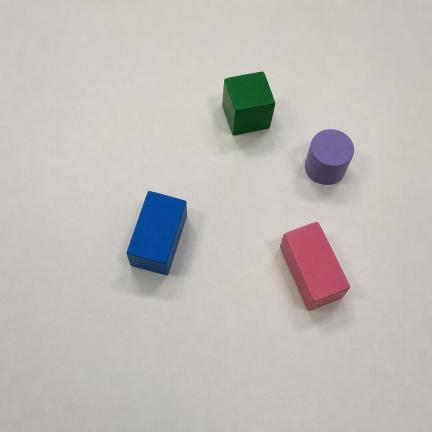BuildingBlocks: (280, 222, 350, 310), (127, 192, 186, 274), (223, 72, 275, 134), (306, 130, 354, 184)
